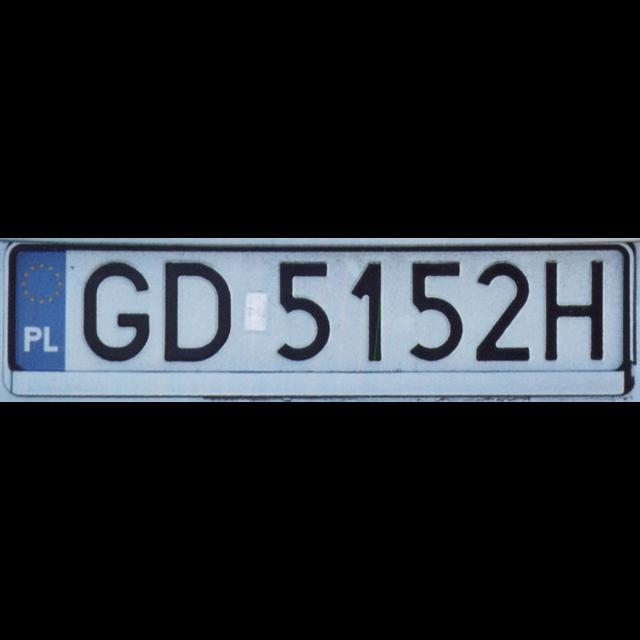pl_license_plate: (13, 249, 621, 369)
